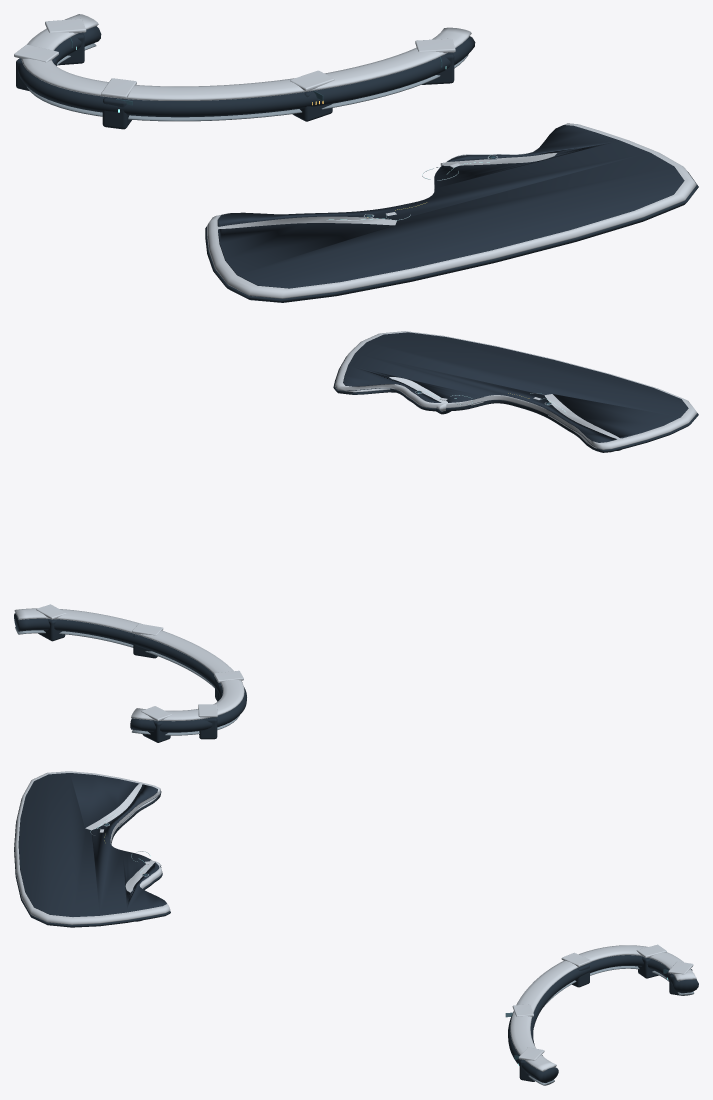
The model's file is tem-observatory.glb.
3 renders of one model, top to bottom at view 1: azimuth 30°, elevation 25°; view 2: azimuth 150°, elevation 25°; view 3: azimuth 270°, elevation 25°, orthographic. The views are drawn at different scales.
Parts seen in each view (by area): view 1: NEAR_DECK.FLOOR_OPTICAL, FAR_HABITAT.DARK_PRESSURE_FAR, FAR_HABITAT.PEARL_CERAMIC_FAR, NEAR_DECK.PEARL_CERAMIC, NEAR_DECK.DARK_PRESSURE, FAR_HABITAT.TITANIUM_COLD_FAR; view 2: NEAR_DECK.FLOOR_OPTICAL, FAR_HABITAT.PEARL_CERAMIC_FAR, FAR_HABITAT.DARK_PRESSURE_FAR, NEAR_DECK.PEARL_CERAMIC, NEAR_DECK.DARK_PRESSURE, FAR_HABITAT.TITANIUM_COLD_FAR; view 3: NEAR_DECK.FLOOR_OPTICAL, FAR_HABITAT.PEARL_CERAMIC_FAR, NEAR_DECK.PEARL_CERAMIC, FAR_HABITAT.DARK_PRESSURE_FAR, NEAR_DECK.DARK_PRESSURE.
Boxes of the visible parts, <box> form: NEAR_DECK.FLOOR_OPTICAL: <box>217,125,684,288</box>; FAR_HABITAT.DARK_PRESSURE_FAR: <box>16,26,475,129</box>; FAR_HABITAT.PEARL_CERAMIC_FAR: <box>14,14,471,100</box>; NEAR_DECK.PEARL_CERAMIC: <box>207,123,696,298</box>; NEAR_DECK.DARK_PRESSURE: <box>205,155,698,302</box>; FAR_HABITAT.TITANIUM_COLD_FAR: <box>27,43,468,121</box>; NEAR_DECK.FLOOR_OPTICAL: <box>343,332,688,442</box>; FAR_HABITAT.PEARL_CERAMIC_FAR: <box>14,604,244,721</box>; FAR_HABITAT.DARK_PRESSURE_FAR: <box>14,613,246,742</box>; NEAR_DECK.PEARL_CERAMIC: <box>335,331,697,449</box>; NEAR_DECK.DARK_PRESSURE: <box>333,356,698,452</box>; FAR_HABITAT.TITANIUM_COLD_FAR: <box>15,627,239,735</box>; NEAR_DECK.FLOOR_OPTICAL: <box>18,773,166,916</box>; FAR_HABITAT.PEARL_CERAMIC_FAR: <box>510,944,696,1071</box>; NEAR_DECK.PEARL_CERAMIC: <box>14,771,170,924</box>; FAR_HABITAT.DARK_PRESSURE_FAR: <box>508,955,698,1082</box>; NEAR_DECK.DARK_PRESSURE: <box>14,791,170,927</box>.
Size of the model in its own units: 140 by 42.06 by 205.
